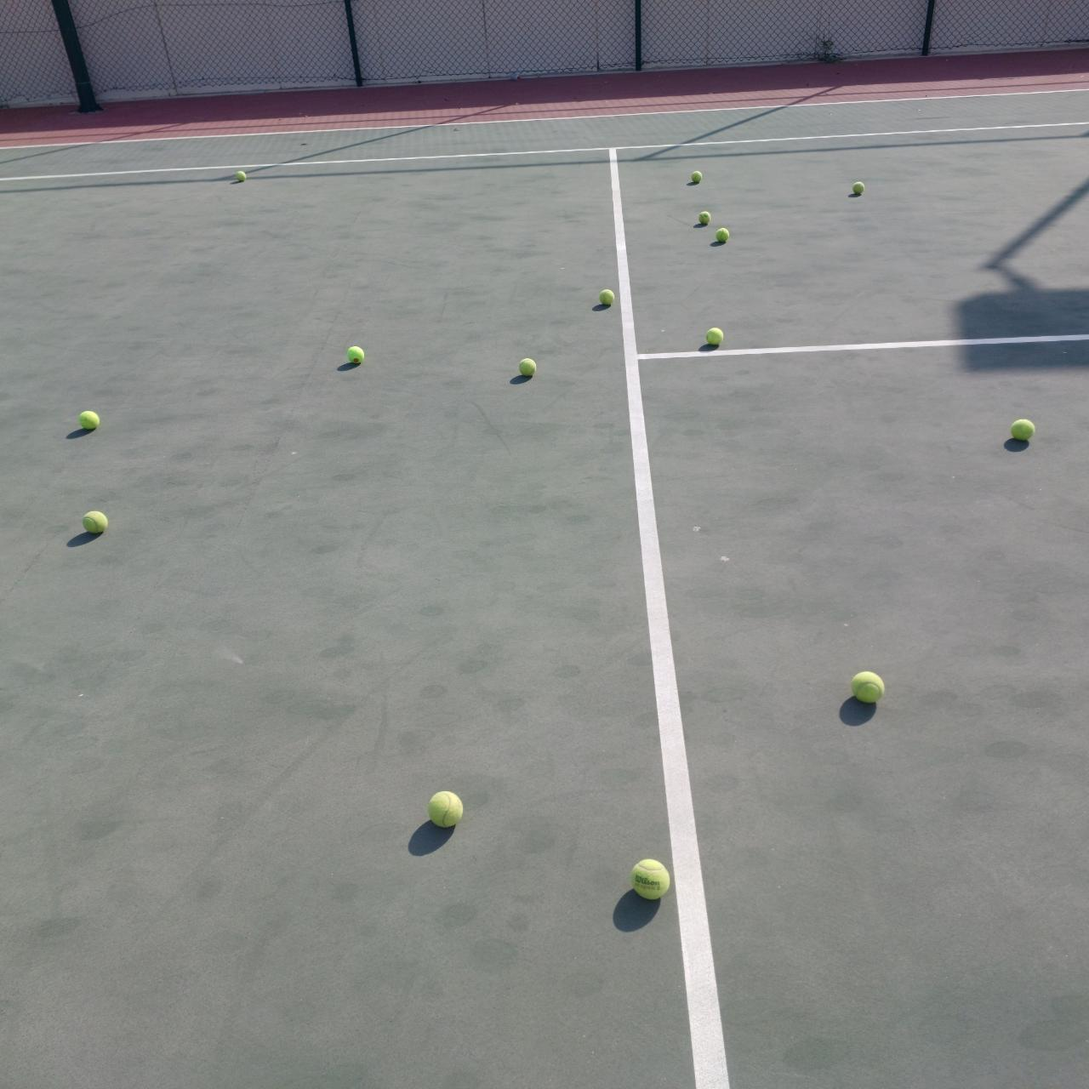tennis-ball: (630, 856, 670, 900), (426, 787, 464, 828), (849, 668, 885, 704), (81, 508, 107, 533), (1009, 416, 1035, 441), (77, 408, 100, 430), (516, 356, 536, 376), (704, 325, 723, 345), (345, 343, 364, 363), (597, 287, 615, 306), (714, 225, 728, 242), (696, 208, 710, 225)
